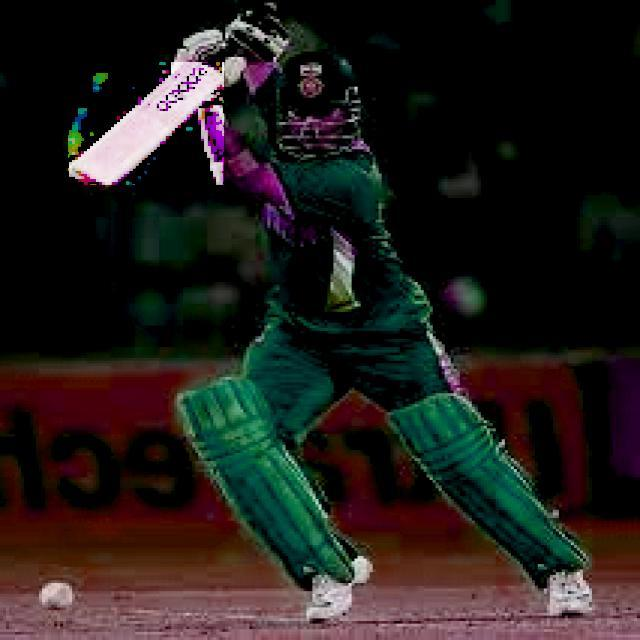bat: (72, 58, 221, 188)
toe: (67, 164, 105, 189)
